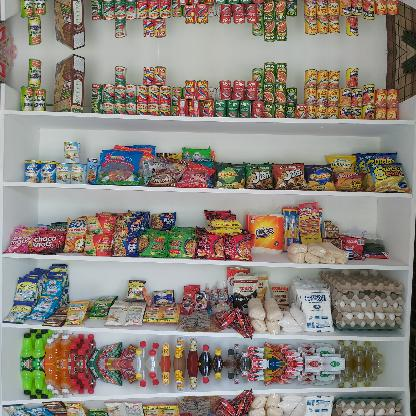Koko-Krunch: (53, 54, 84, 112), (53, 0, 85, 51)
